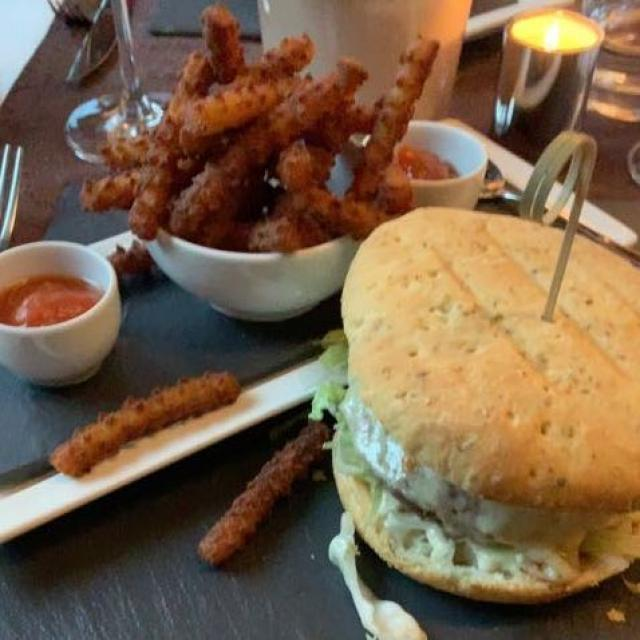chips-french-fries: (58, 3, 449, 581)
hamburger: (315, 213, 637, 599)
ketchup: (5, 279, 96, 325)
